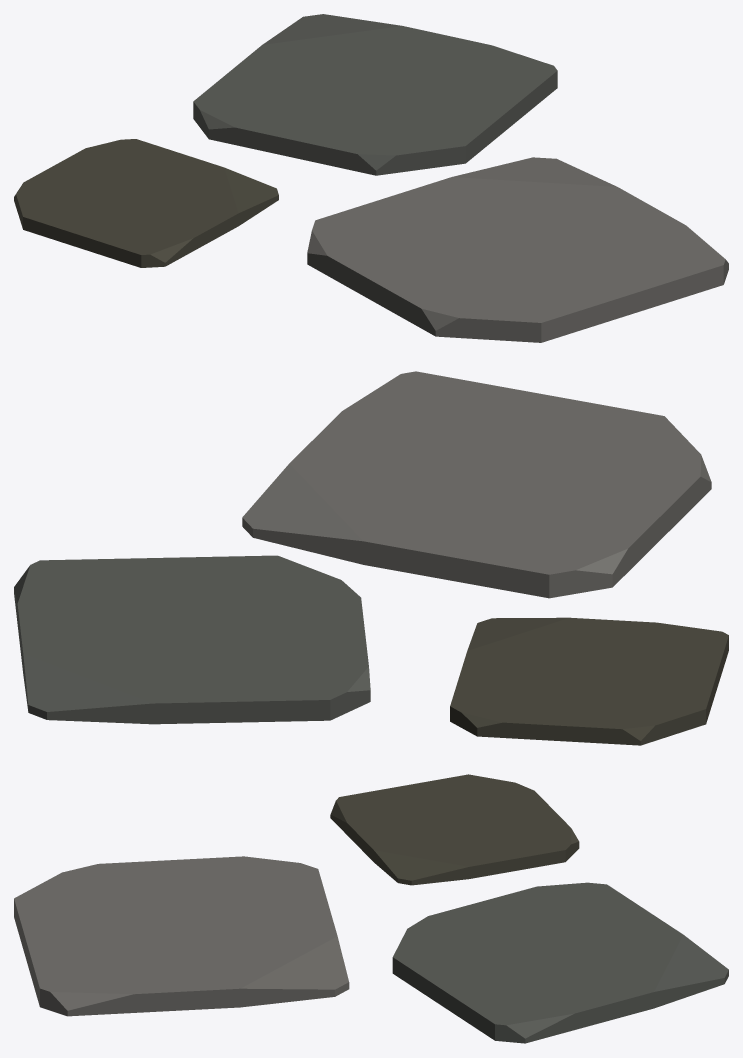
Rendered from cobblestonePath.fbx.
The picture shows the model from 3 angles, top to bottom: view 1: azimuth 30°, elevation 25°; view 2: azimuth 150°, elevation 25°; view 3: azimuth 270°, elevation 25°; orthographic projection. The views are drawn at different scales.
Visible parts, largest first — view 1: Cube.013; view 2: Cube.013; view 3: Cube.013.
Part boxes in pixels (<box>): Cube.013: <box>14,14,728,342</box>; Cube.013: <box>14,371,728,745</box>; Cube.013: <box>14,774,728,1043</box>.
Size of the model in its own units: 0.9574 by 0.0329 by 1.14.
